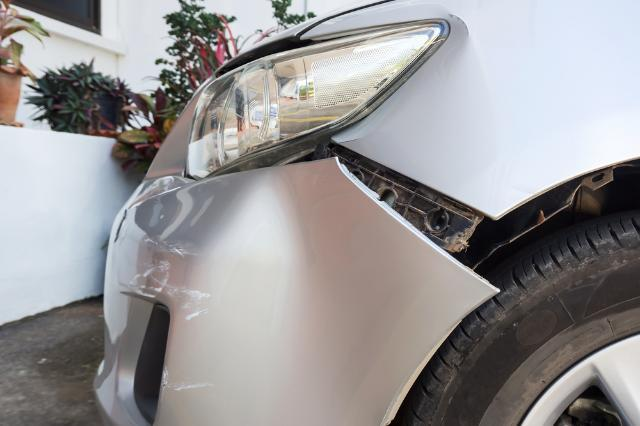dent: (166, 161, 443, 426)
dislocated part: (131, 128, 502, 425), (210, 24, 325, 82)
scratch: (128, 235, 205, 315)
